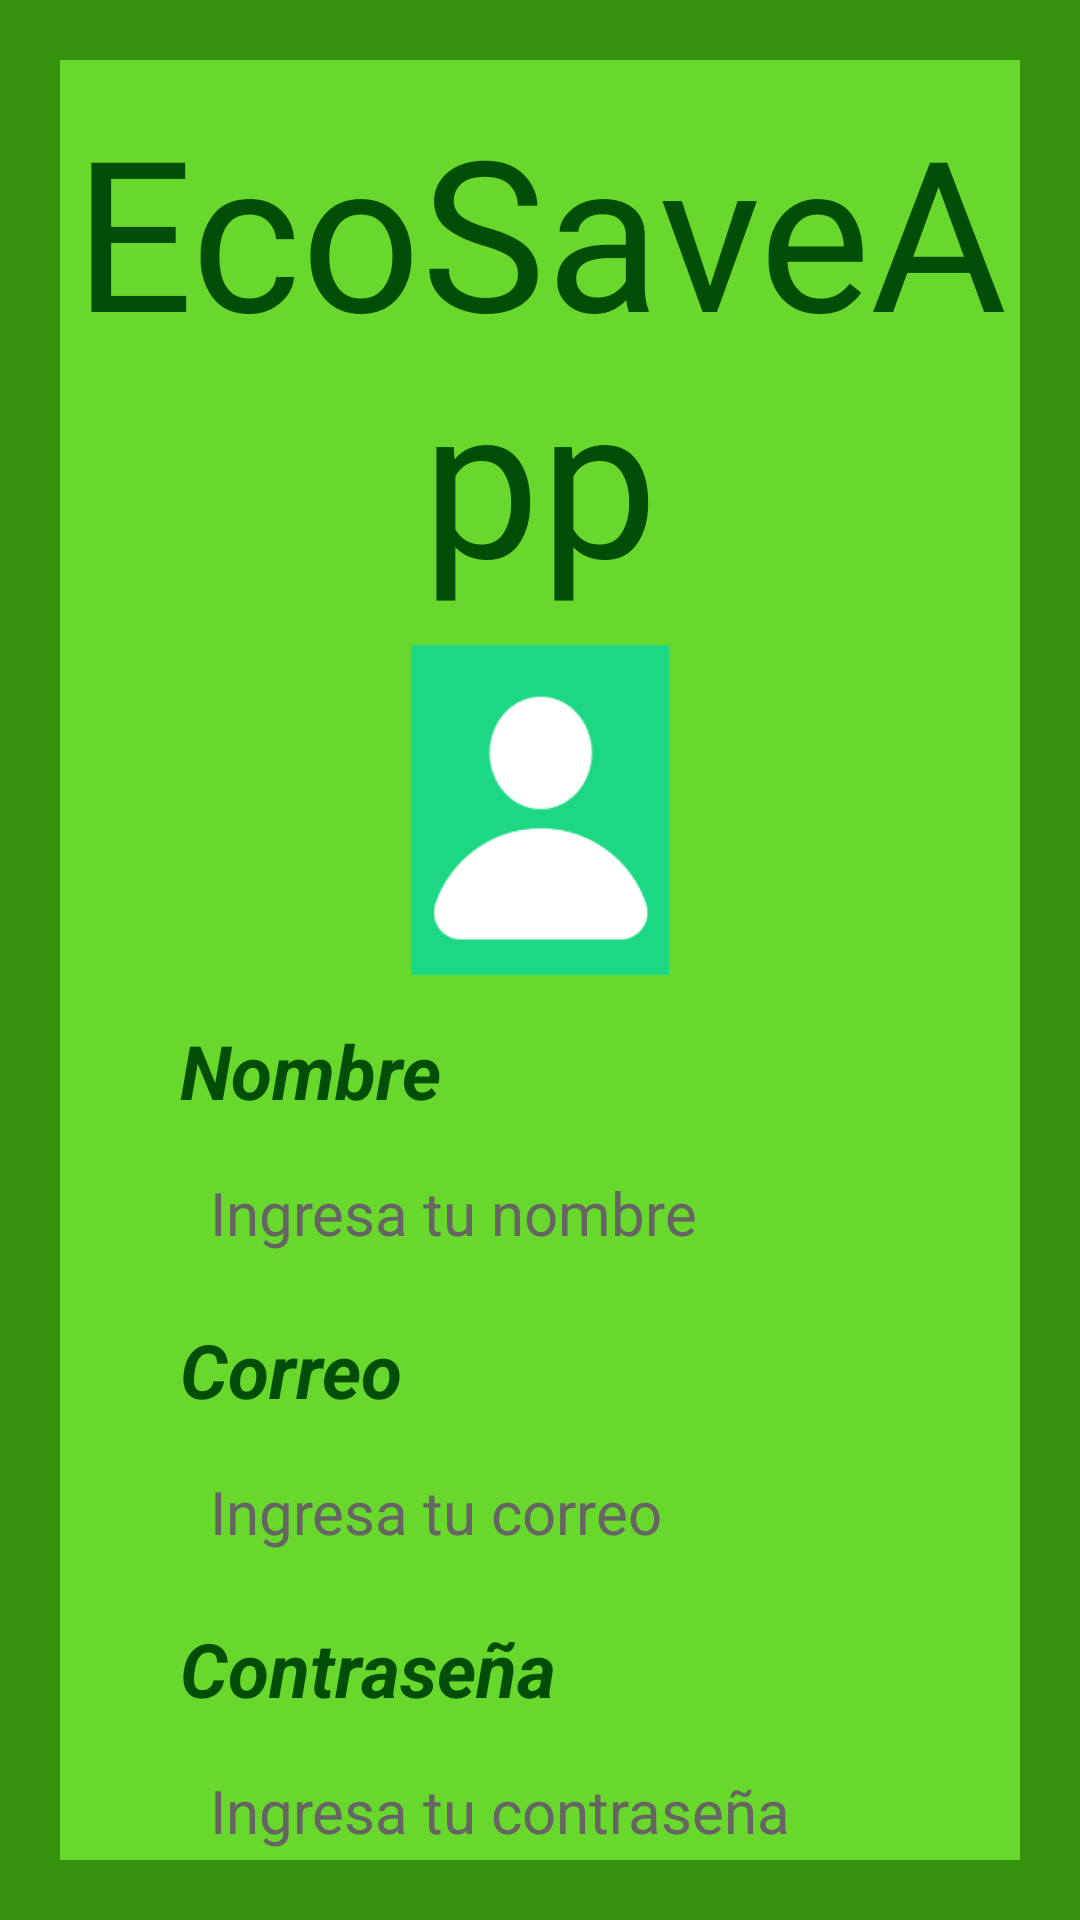

Icon bounding boxes for this 1080x1920 phone screenshot, format (x1, y1, x2, y2):
usuario: (411, 645, 669, 975)
